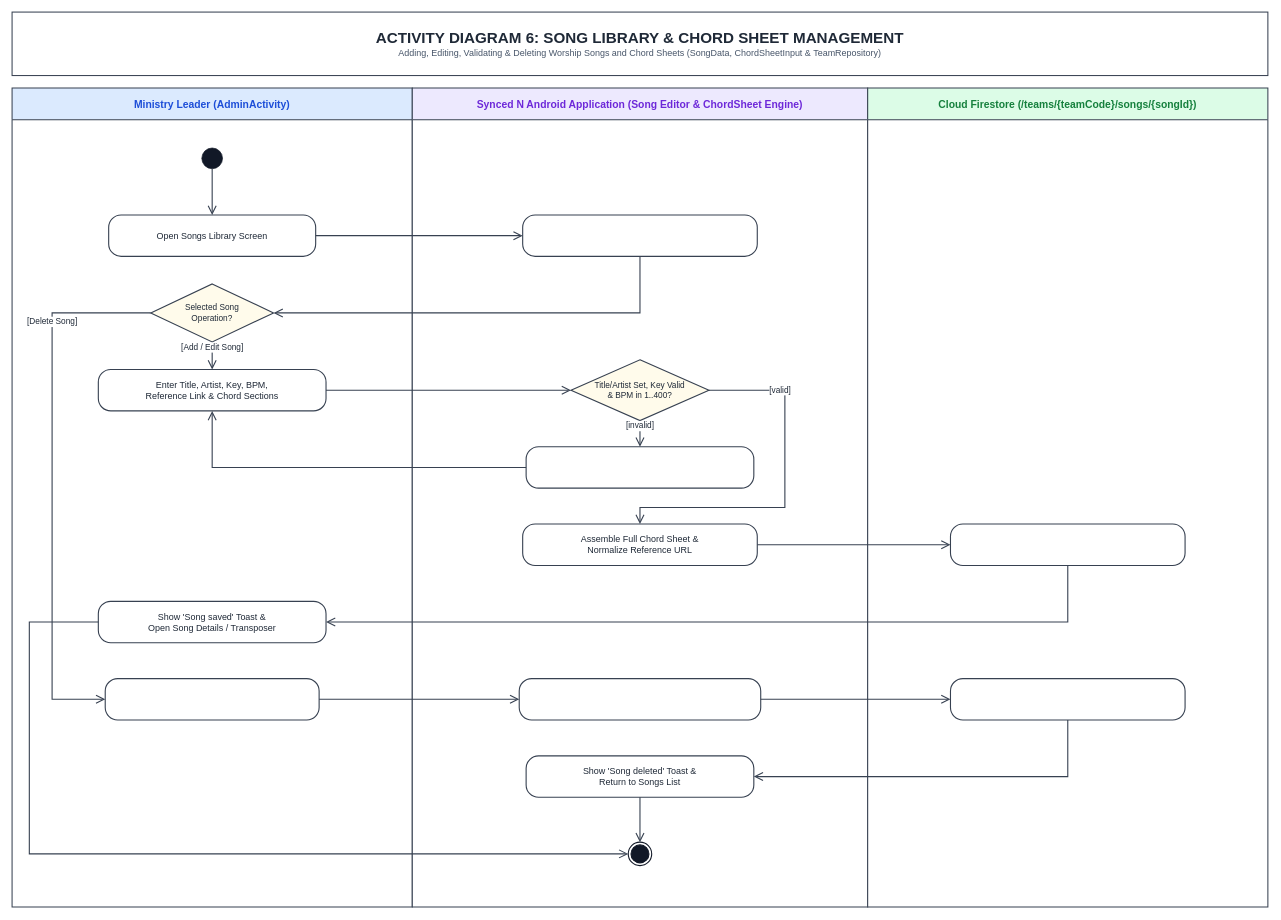
Some shapes in this 1281 by 920 pixel diagram are drawn without their labels. Here are the shapes that lost their labels. From the top down, the centre of each, then its label:
At point 639,235: "Load Team Songs & Default Seed Catalog (TeamRepository.getSongs)".
At point 639,467: "Highlight Invalid Field (Key Pitch or BPM Range Error)".
At point 1067,544: "Save SongData Document to /teams/{teamCode}/songs/{songId}".
At point 211,699: "Tap 'Delete Song' & Confirm Deletion Dialog".
At point 639,699: "Mark Song Key Deleted & Remove from Local Cache (removeSongLocally)".
At point 1067,699: "Delete Song Document from /teams/{teamCode}/songs/{songId}".
